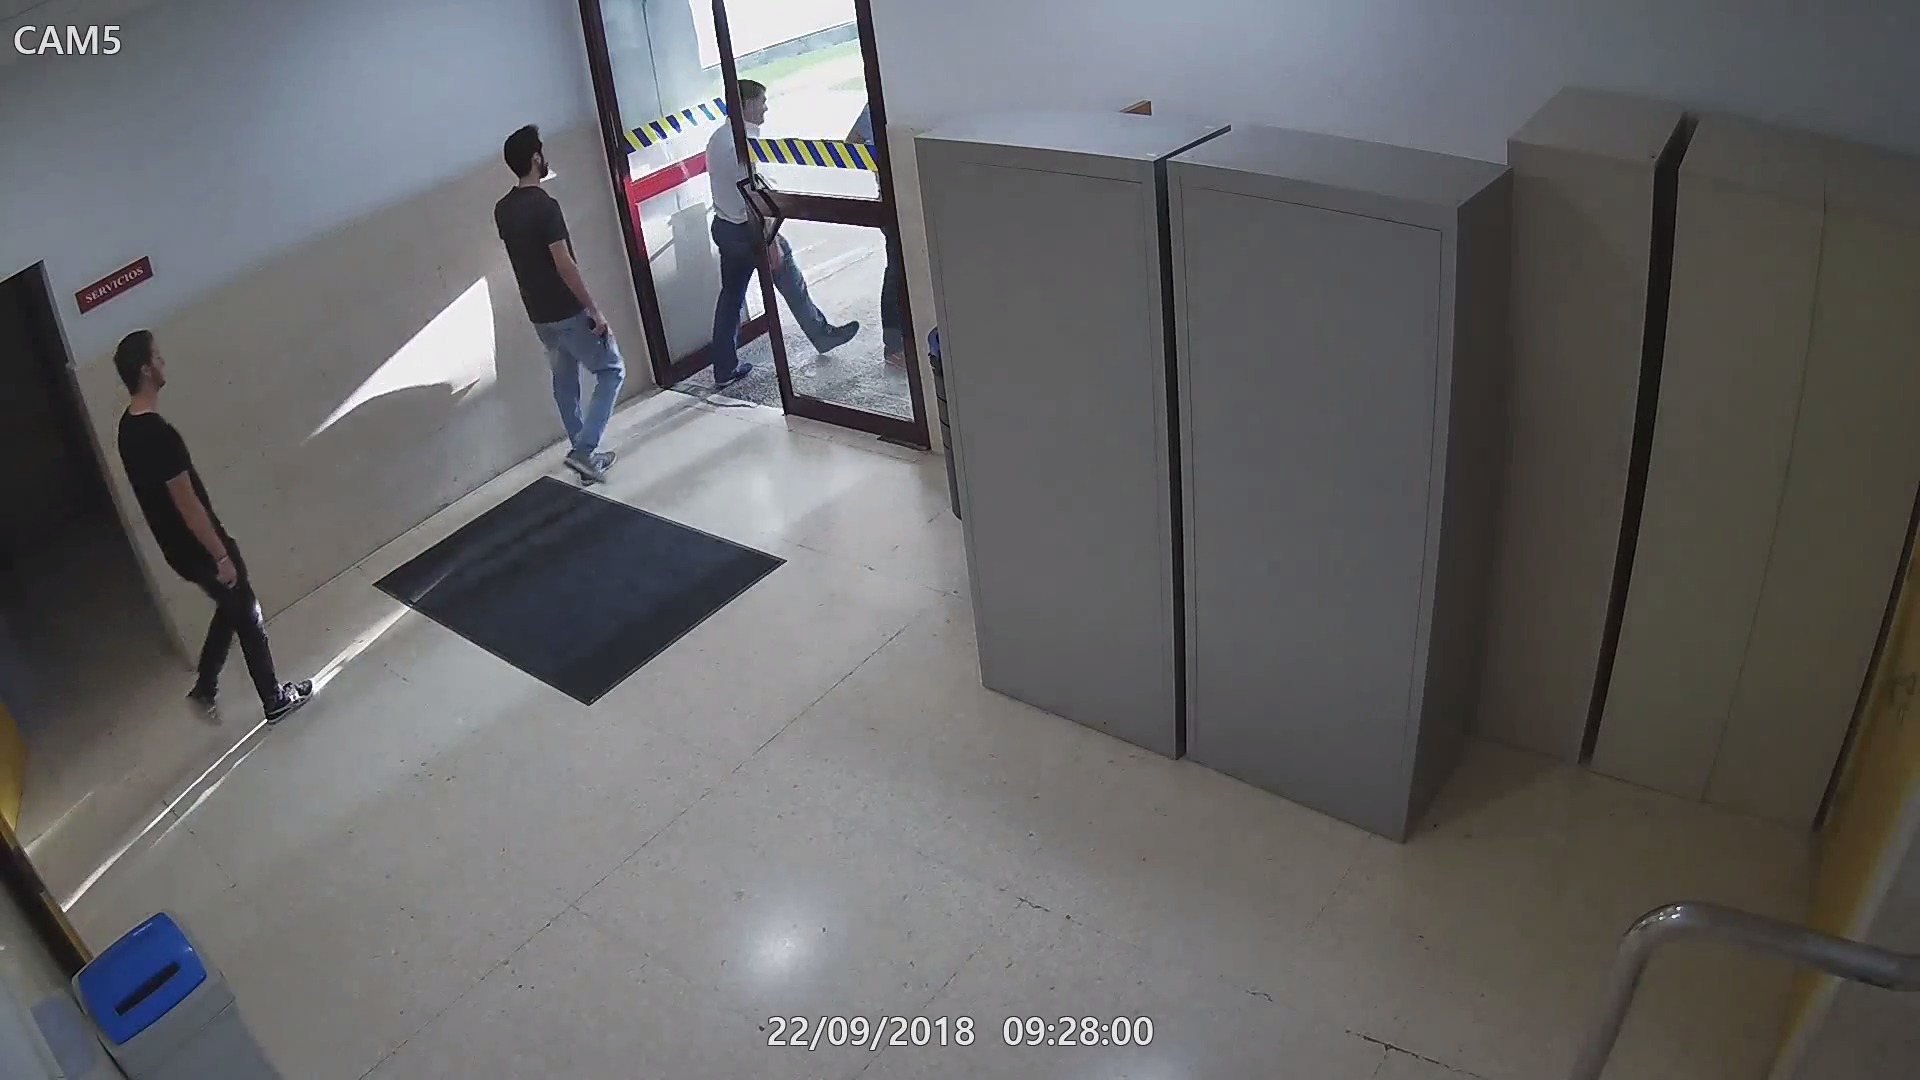Handgun: (211, 556, 255, 616), (583, 315, 613, 351)
